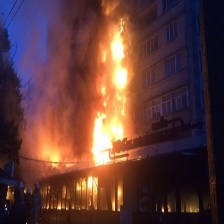fire: (89, 12, 144, 163), (28, 172, 209, 215), (43, 145, 68, 172)
smoke: (19, 3, 97, 152)
